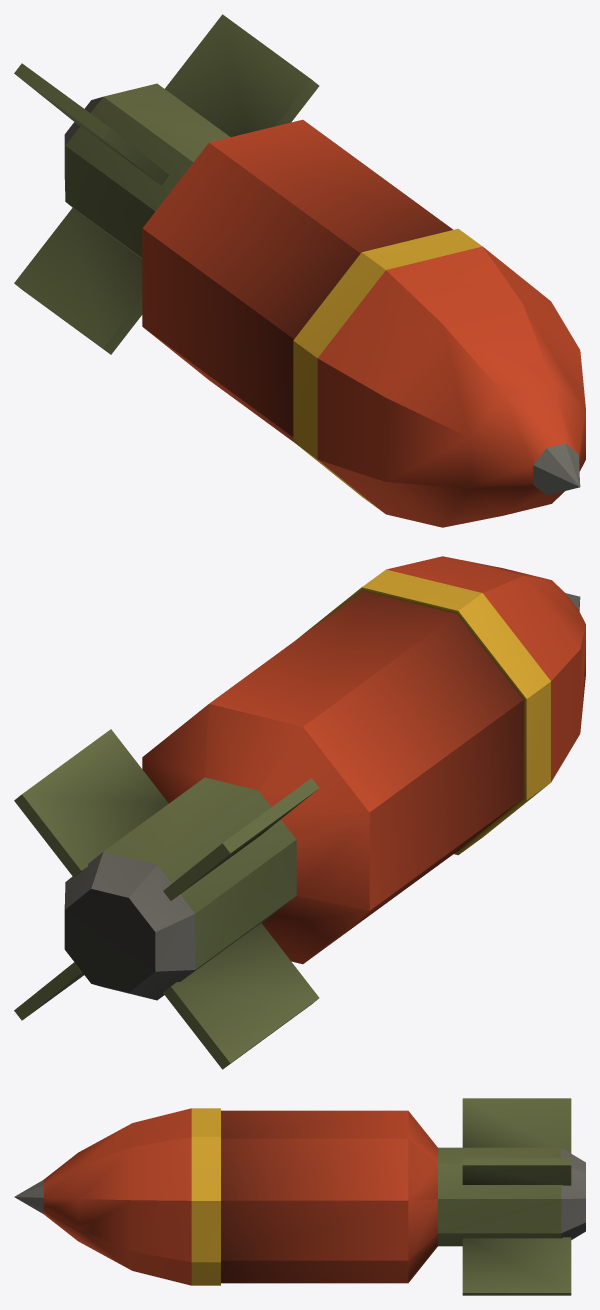
The model's file is rocket.glb.
3 views of the same model, one above another, from view 1: azimuth 30°, elevation 25°; view 2: azimuth 150°, elevation 25°; view 3: azimuth 270°, elevation 25° (orthographic). The views are drawn at different scales.
Visible parts, largest first — view 1: Body; view 2: Body; view 3: Body.
Part boxes in pixels (box(x1,y1,x2,y2)): Body: box(14, 14, 585, 527); Body: box(14, 556, 585, 1069); Body: box(14, 1098, 585, 1295).
Size of the model in its own units: 0.3326 by 0.3326 by 1.16.
